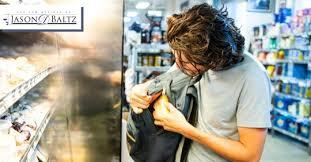shoplifting: (120, 51, 200, 134)
